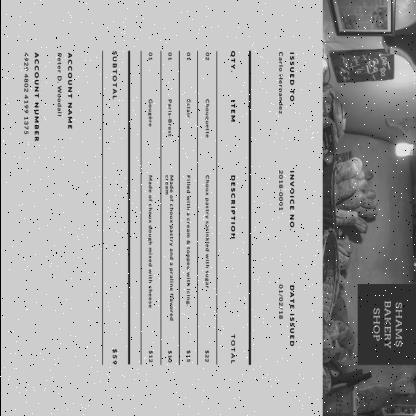Paragraph: (107, 47, 122, 369), (51, 49, 76, 134)
Table: (140, 48, 250, 368)
